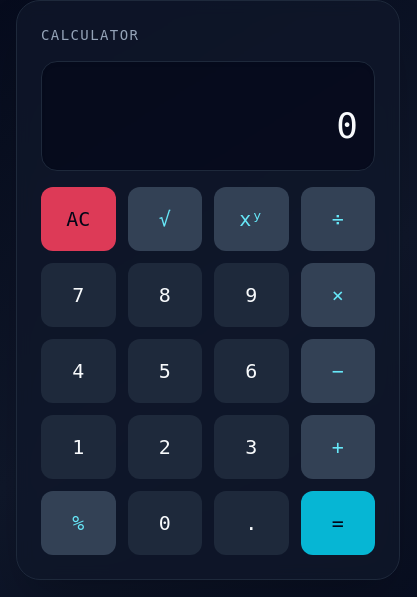
<Calculator /> › renders decimals correctly and skips duplicate decimal
Click the button "3": (251, 447) [214, 415, 288, 479]
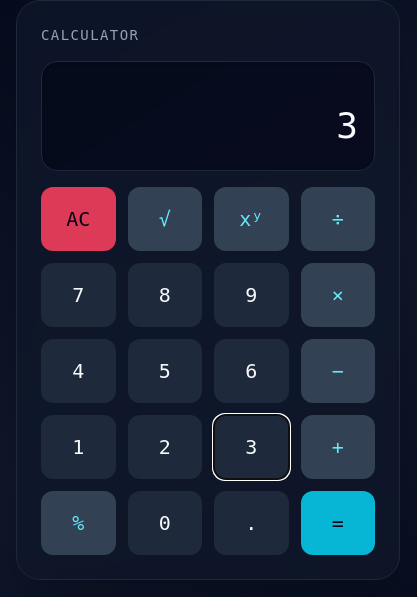
Click the button named "decimal": (251, 523) [214, 491, 288, 555]
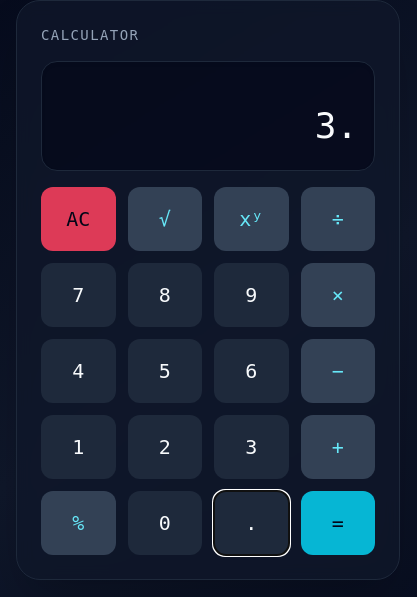
Click the button "1": (78, 447) [41, 415, 116, 479]
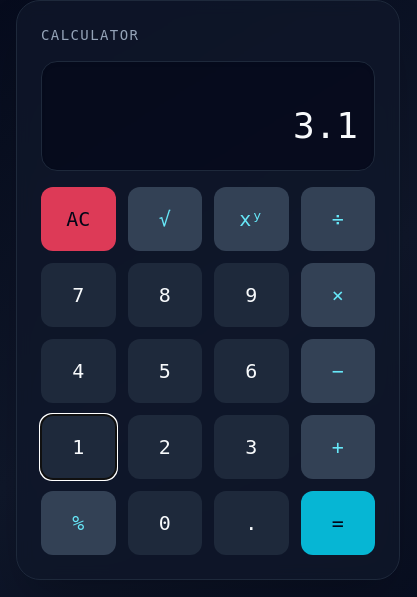
Click the button named "decimal": (251, 523) [214, 491, 288, 555]
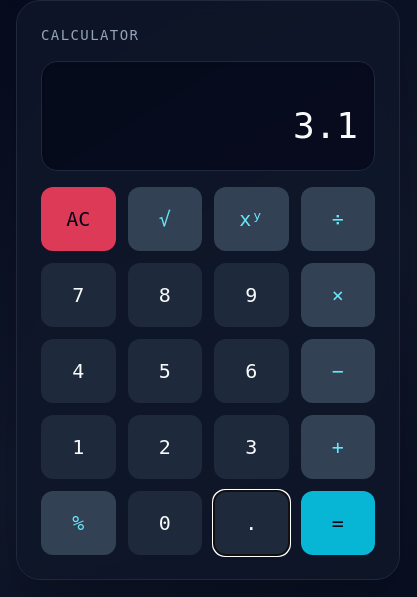
Click the button "4": (78, 371) [41, 339, 116, 403]
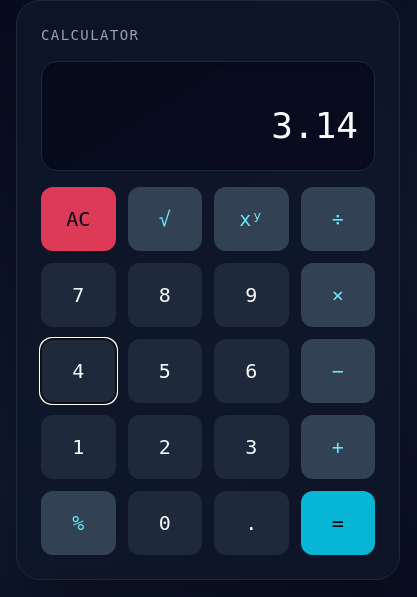
Result: the text with test id "display" reads "3.14" at [271, 105, 358, 146]
